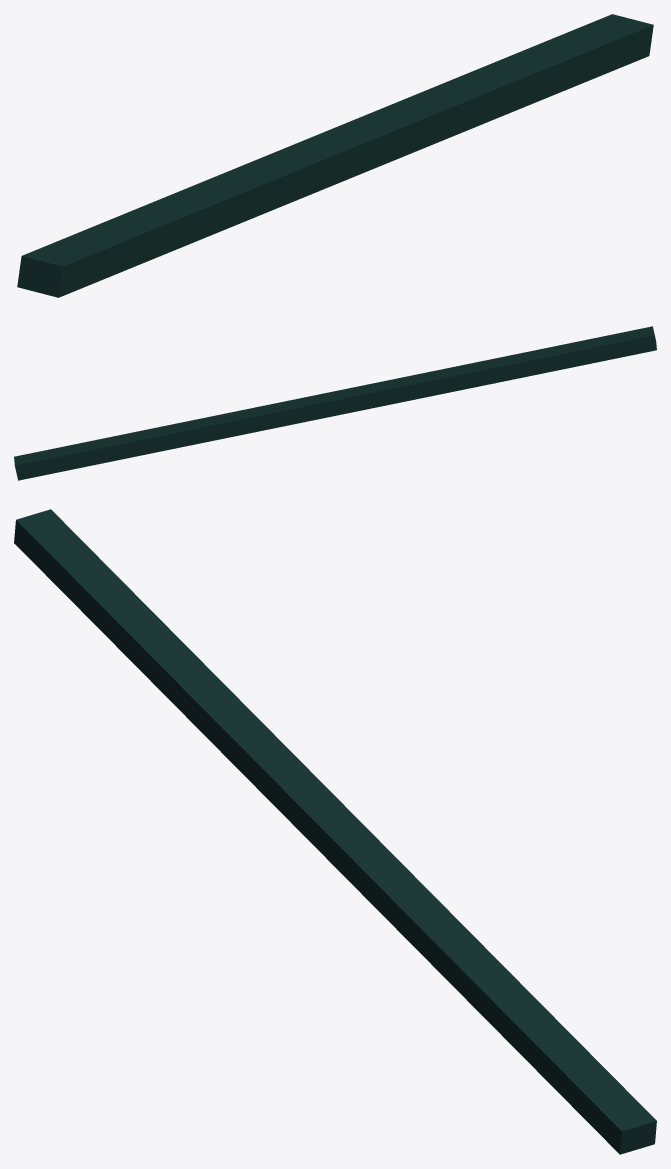
File: carroca_puxador.fbx
3 views of the same model, one above another, from view 1: azimuth 30°, elevation 25°; view 2: azimuth 150°, elevation 25°; view 3: azimuth 270°, elevation 25° (orthographic). The views are drawn at different scales.
Visible parts, largest first — view 1: carroca_puxador; view 2: carroca_puxador; view 3: carroca_puxador.
Boxes of the visible parts, x1,y1,x2,y2 form: carroca_puxador: (17, 14, 653, 297); carroca_puxador: (14, 326, 656, 480); carroca_puxador: (14, 509, 656, 1154).
Bounding box in the file's own units: 474 × 126 × 311.
